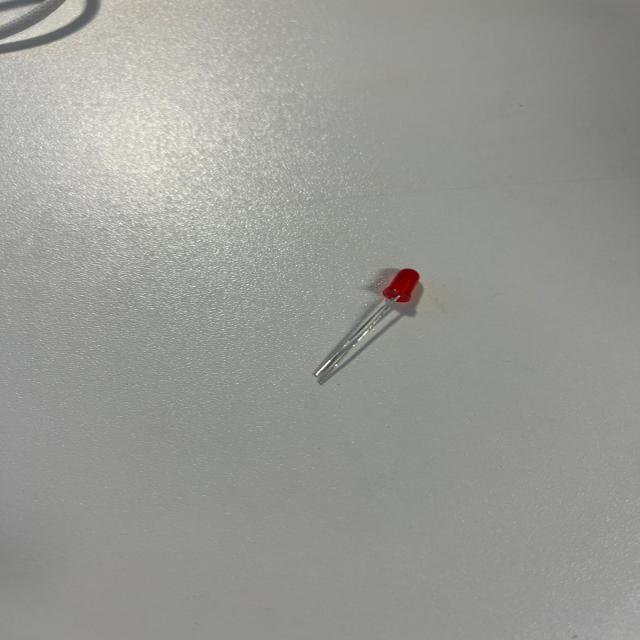REDLed: (353, 255, 427, 388)
